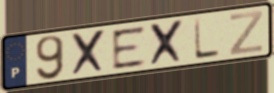9: (34, 34, 65, 82)
E: (110, 23, 149, 72)
L: (192, 17, 222, 62)
X: (148, 17, 187, 68), (70, 27, 108, 78)
Z: (228, 9, 265, 57)
